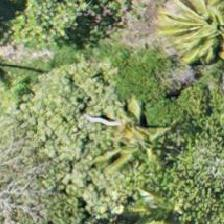coconut_tree: (161, 0, 223, 69), (126, 177, 216, 223)
